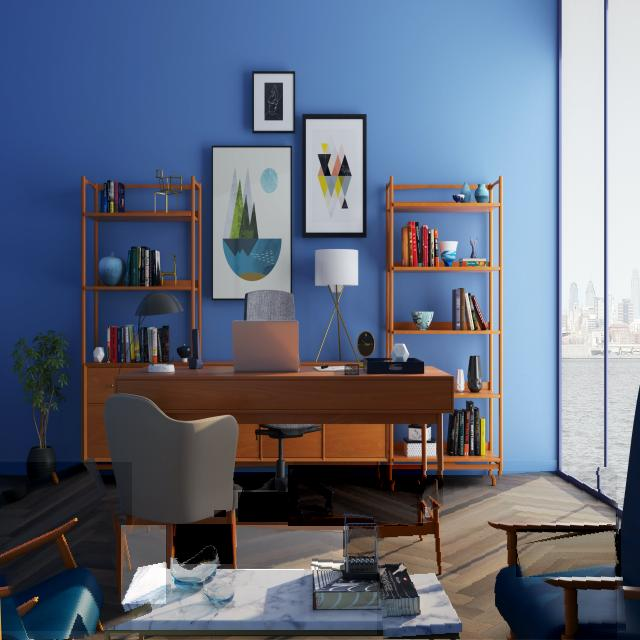floor: (378, 471, 617, 640), (0, 463, 132, 631), (288, 466, 423, 526), (236, 525, 345, 570), (517, 530, 621, 577), (121, 526, 166, 604), (0, 534, 64, 578), (174, 525, 233, 564), (238, 492, 290, 522), (144, 635, 430, 640), (291, 496, 332, 519), (350, 528, 377, 558), (233, 472, 275, 490), (422, 475, 443, 507), (344, 531, 355, 557), (110, 633, 139, 640), (433, 635, 449, 640), (215, 510, 226, 517), (425, 506, 431, 517)
